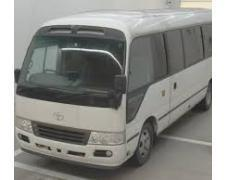bus: (14, 9, 213, 174)
